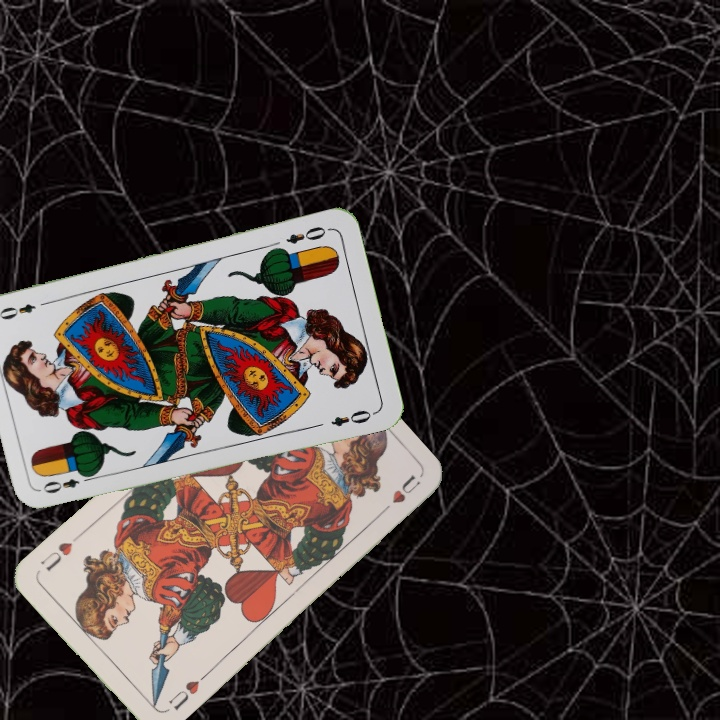EO: (38, 469, 96, 496), (282, 222, 333, 247)
HU: (165, 676, 202, 713)
